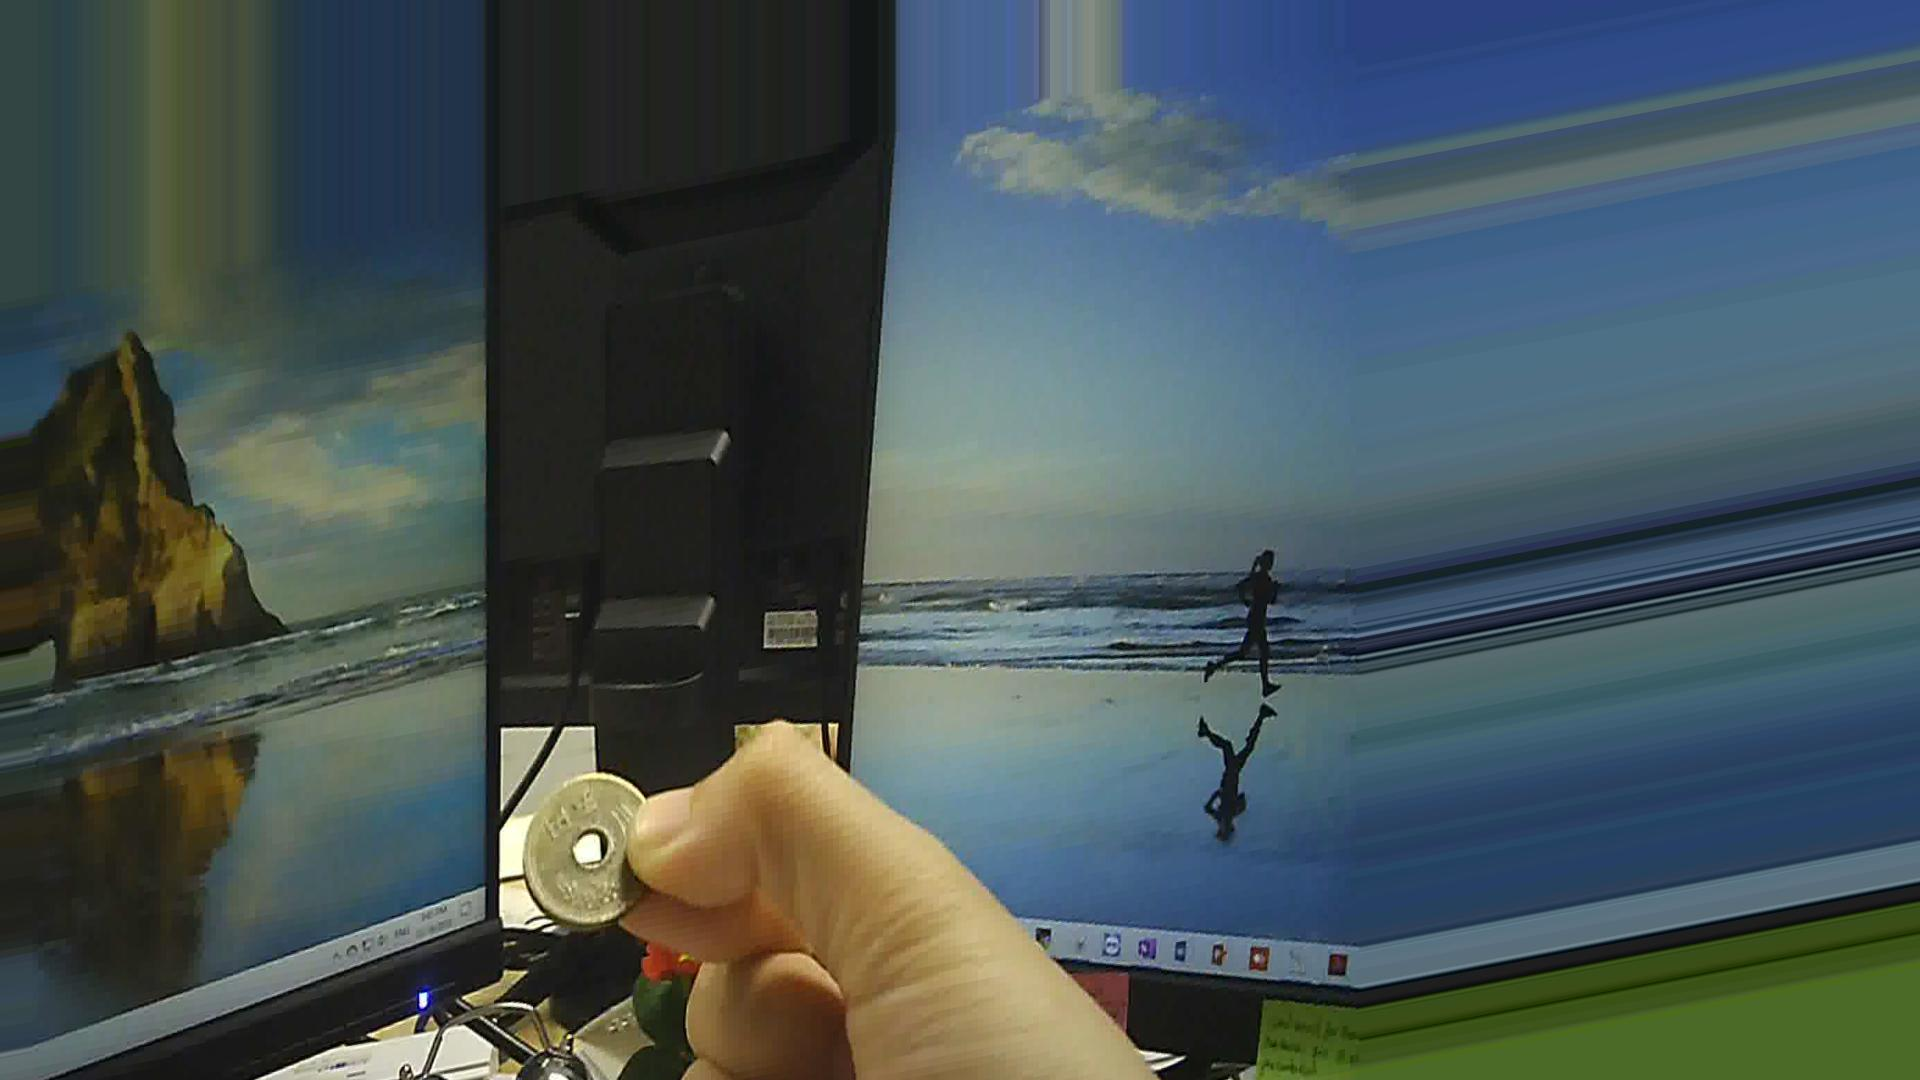5 Yen: (524, 781, 676, 919)
